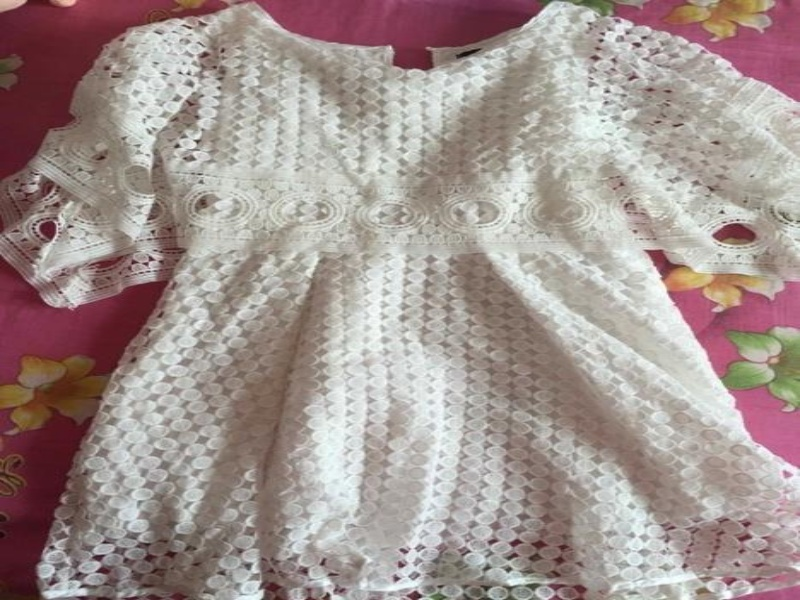short_sleeved_shirt: (3, 2, 798, 312)
skirt: (31, 189, 798, 599)
